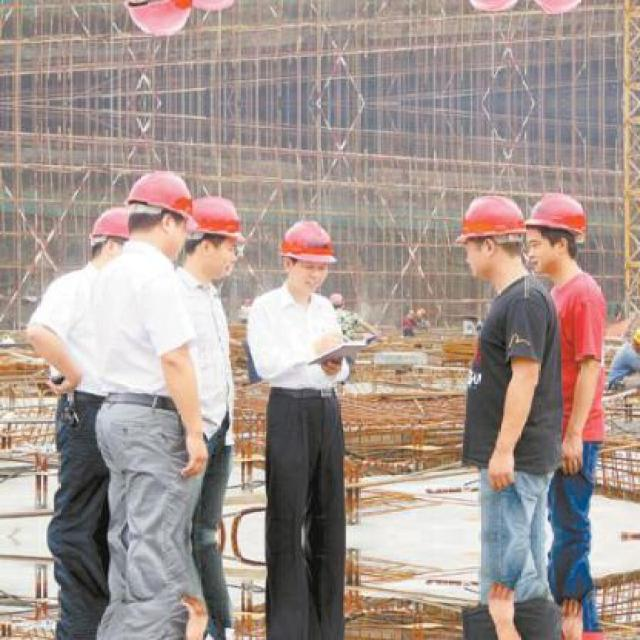helmet: (112, 165, 211, 262), (448, 187, 540, 283), (176, 180, 255, 287), (515, 187, 596, 280), (271, 215, 344, 299), (112, 0, 212, 42), (78, 203, 134, 260), (176, 0, 256, 26), (448, 0, 542, 20), (514, 0, 597, 20)
